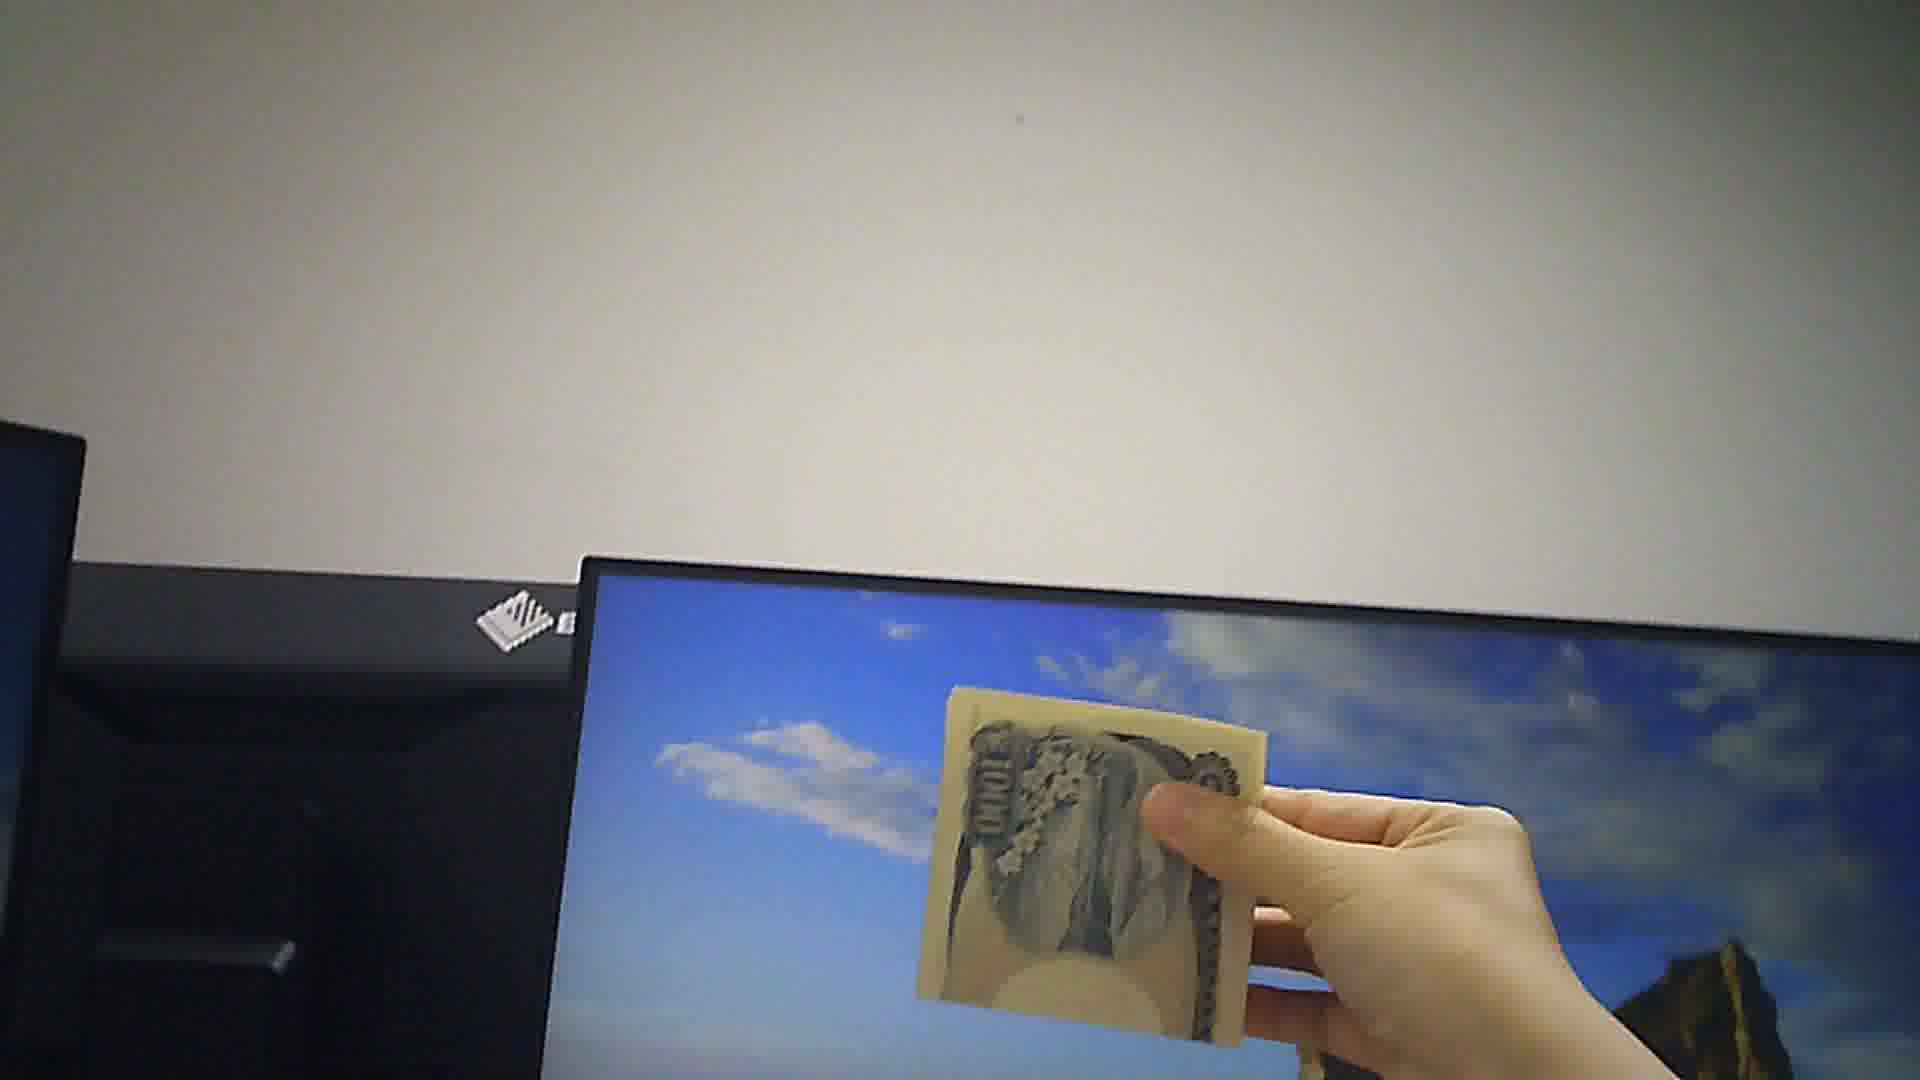1,000 Yen: (930, 679, 1287, 1062)
